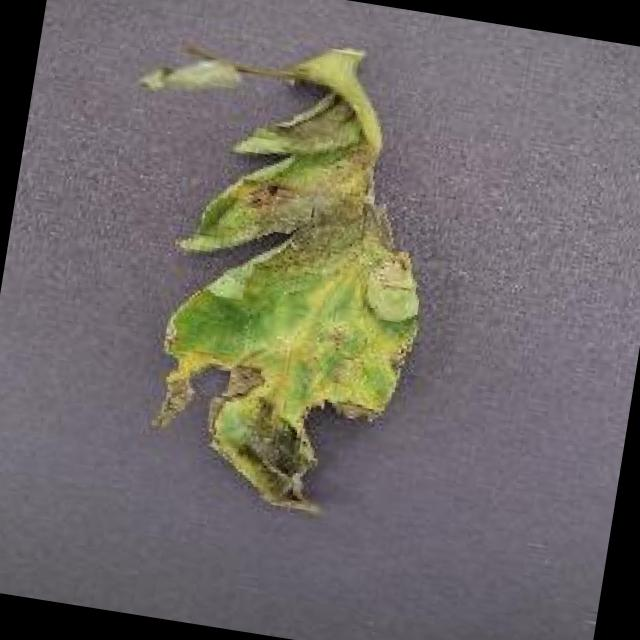Tomato_Late_Blight: (75, 15, 498, 541)
